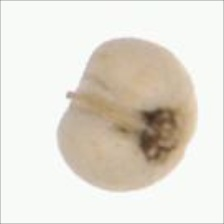L5: (63, 80, 141, 133), (137, 103, 193, 166)
L6: (52, 34, 199, 194)
